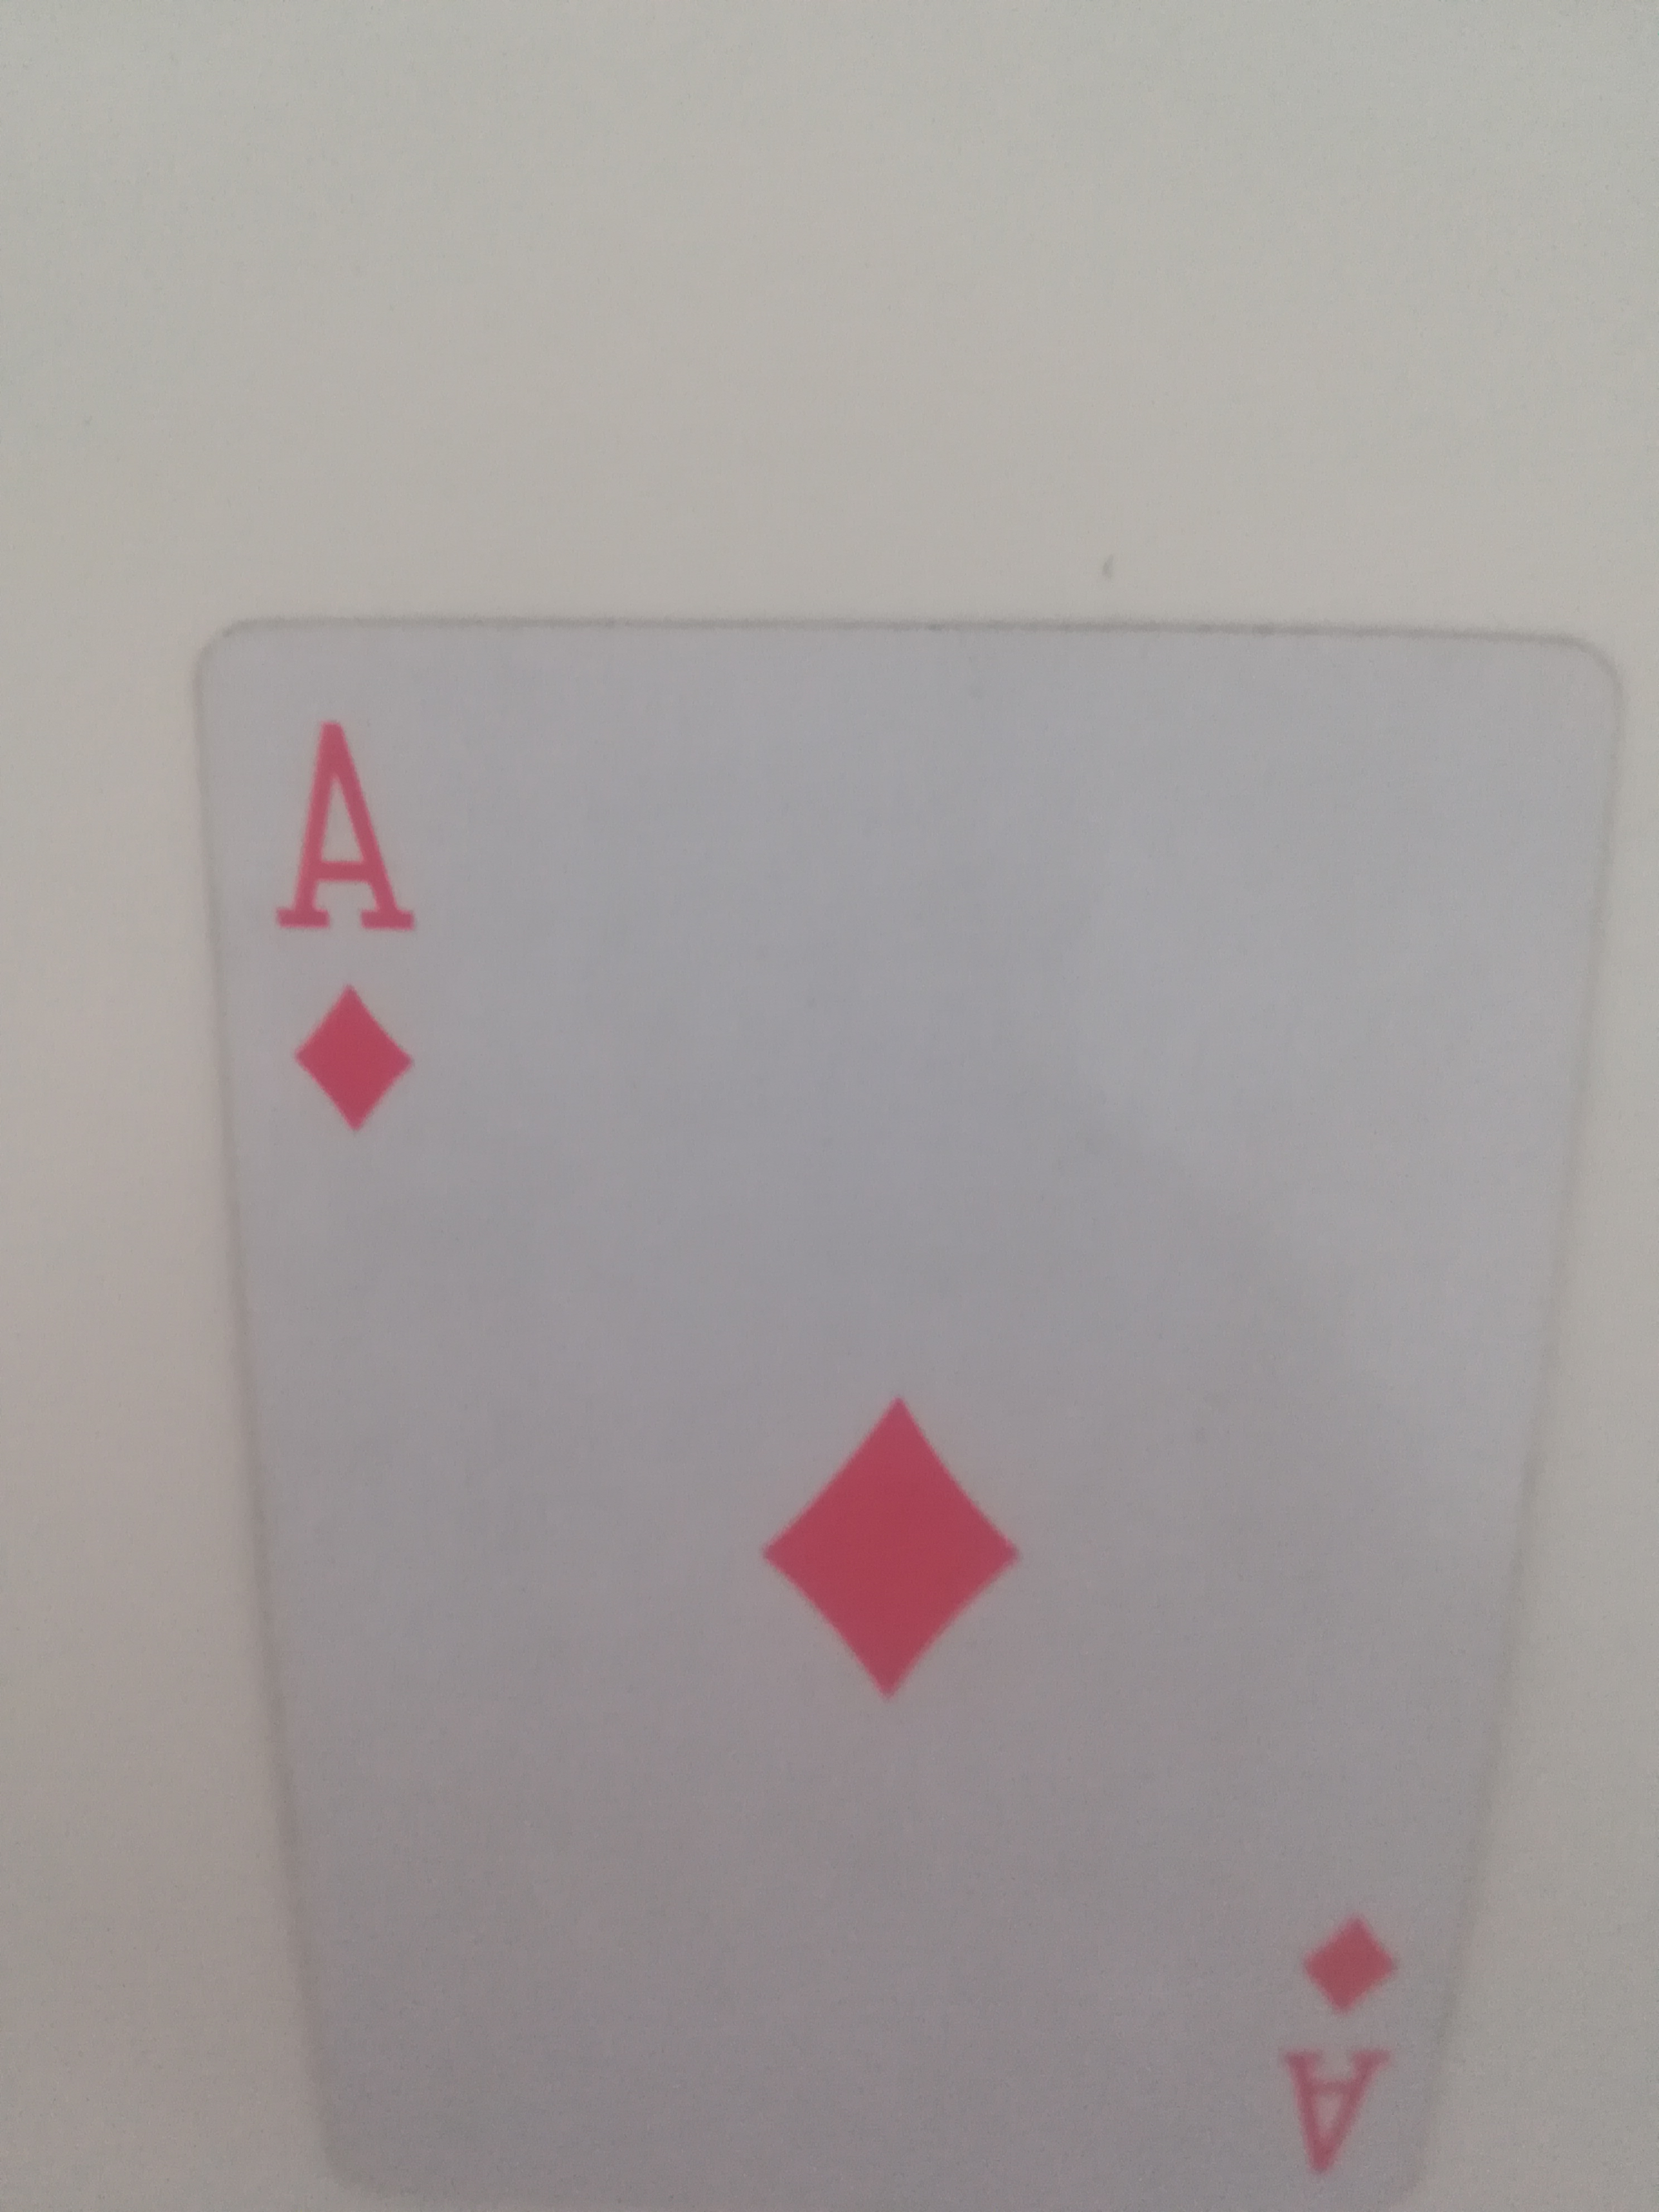AD: (192, 601, 1612, 2212)
